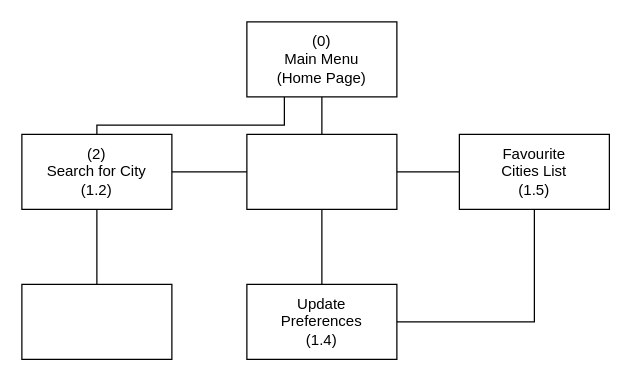
This 631x381 diagram has some shape labels left out. Each missing label, with the centre of its shape:
(1) Log In Page: the point at 321,171
Add/Remove favourite city (1.3): the point at 96,321
